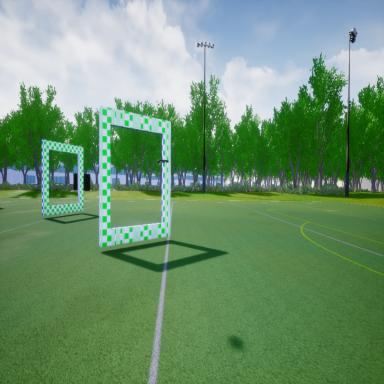gate: (97, 106, 172, 252), (38, 136, 87, 221)
